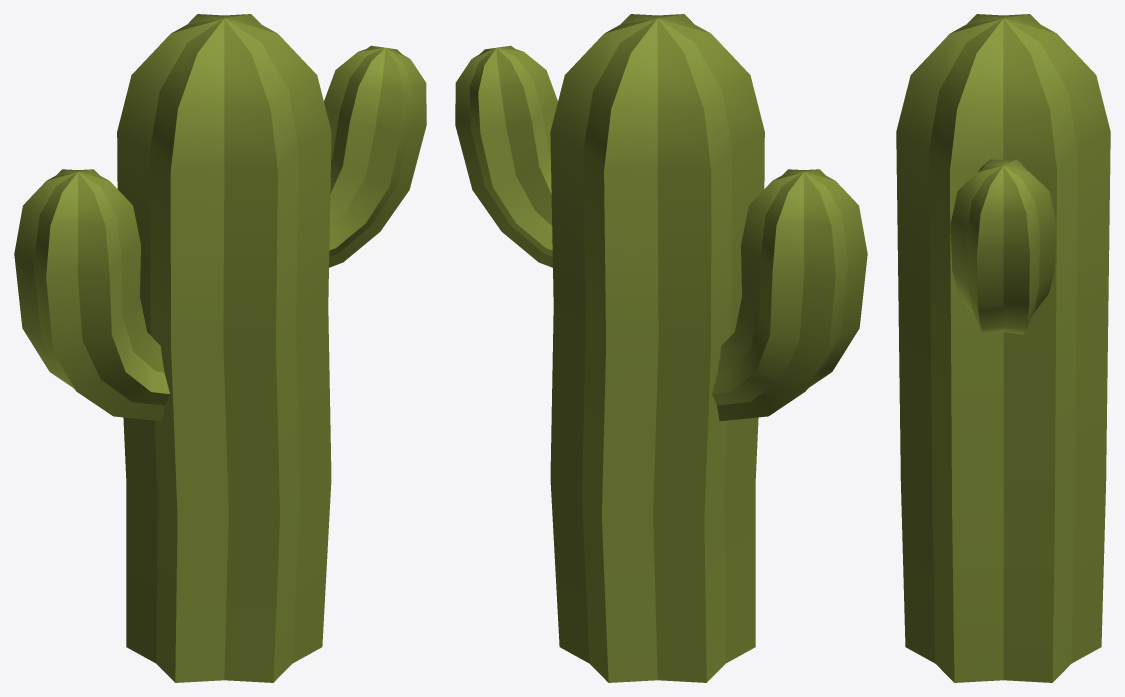
The model's file is tree03.fbx.
3 views of the same model, side by side, from view 1: azimuth 30°, elevation 25°; view 2: azimuth 150°, elevation 25°; view 3: azimuth 270°, elevation 25° (orthographic).
Parts seen in each view (by area): view 1: tree03; view 2: tree03; view 3: tree03.
Boxes of the visible parts, x1=… form: tree03: x1=14, y1=14, x2=426, y2=682; tree03: x1=455, y1=14, x2=867, y2=682; tree03: x1=896, y1=14, x2=1110, y2=682.
Bounding box in the file's own units: 1.33 × 2.07 × 0.64.
